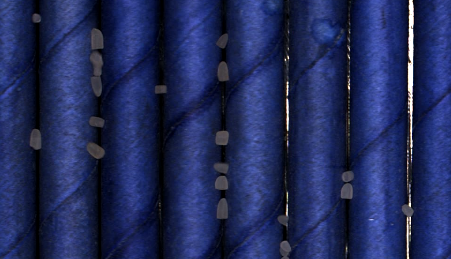broken_grain: (84, 140, 110, 164), (86, 50, 107, 77), (30, 127, 48, 153), (211, 128, 232, 150), (87, 27, 106, 51), (214, 60, 230, 85), (215, 196, 230, 222), (88, 75, 104, 97), (215, 31, 231, 52), (211, 176, 232, 192), (277, 238, 293, 258), (338, 183, 356, 200), (88, 115, 108, 130), (212, 161, 232, 175), (400, 202, 416, 219), (339, 170, 357, 184), (153, 84, 170, 96), (275, 214, 290, 227), (30, 11, 42, 25)
